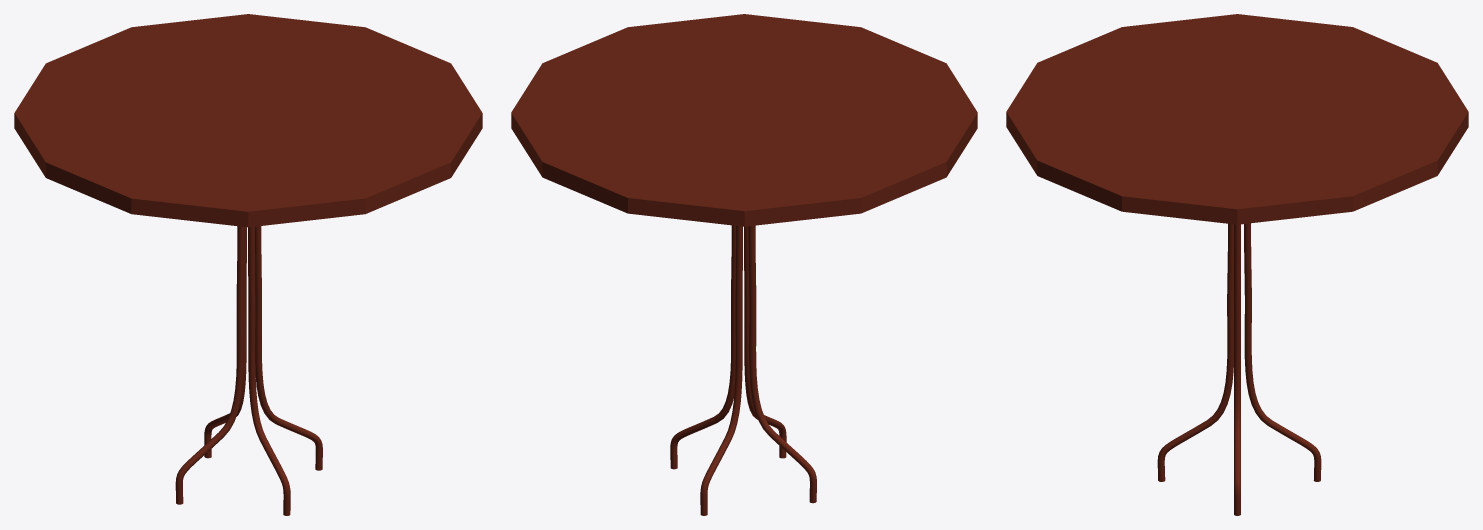
File: Mesinha CaiNunka FBX.fbx
3 views of the same model, side by side, from view 1: azimuth 30°, elevation 25°; view 2: azimuth 150°, elevation 25°; view 3: azimuth 270°, elevation 25° (orthographic).
Visible parts, largest first — view 1: Circle; view 2: Circle; view 3: Circle.
Boxes of the visible parts, box(x1,y1,x2,y2) form: Circle: box(14, 14, 482, 515); Circle: box(511, 14, 977, 515); Circle: box(1006, 14, 1468, 515).
Size of the model in its own units: 288 by 254 by 288.
